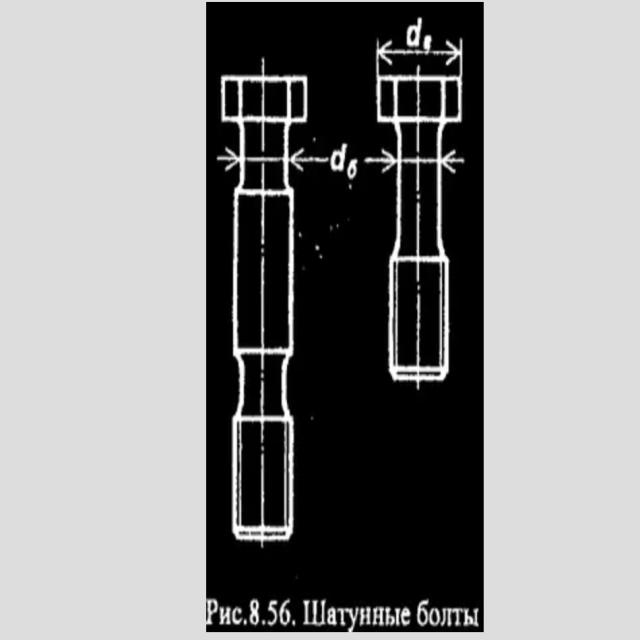marking_line: (375, 39, 462, 73), (361, 145, 397, 174), (291, 147, 328, 173), (443, 146, 465, 176), (214, 144, 236, 173)
numeric: (346, 156, 361, 182)
